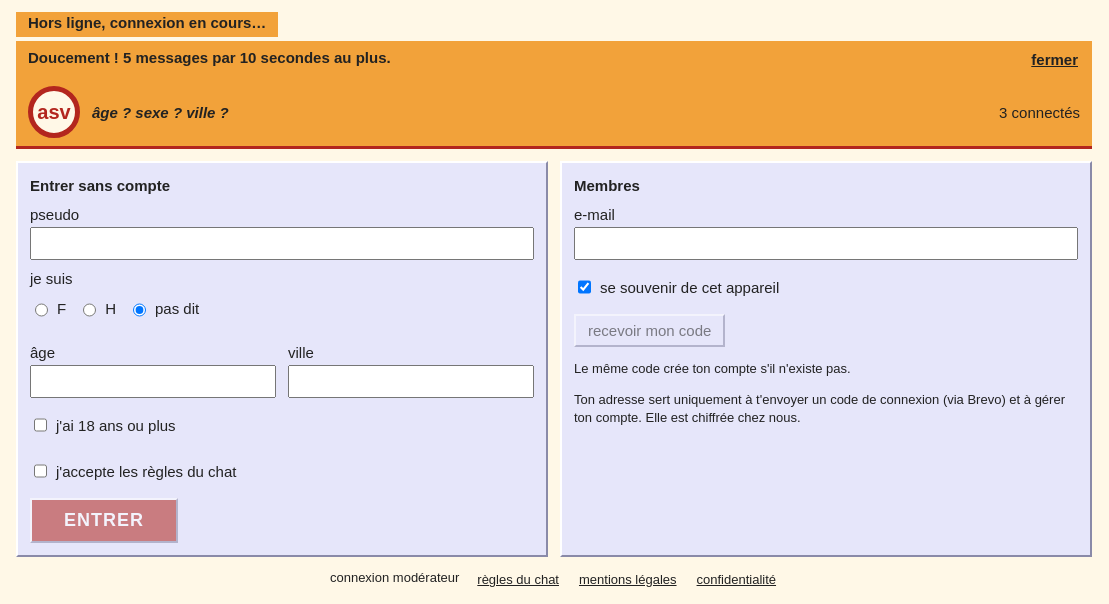
banners › shows a known notice, then dismisses it
Expected: the message shows "Doucement ! 5 messages par 10 secondes au plus.", [28, 49, 391, 66]
Click the button "fermer" at (1055,60), box [1029, 47, 1080, 72]
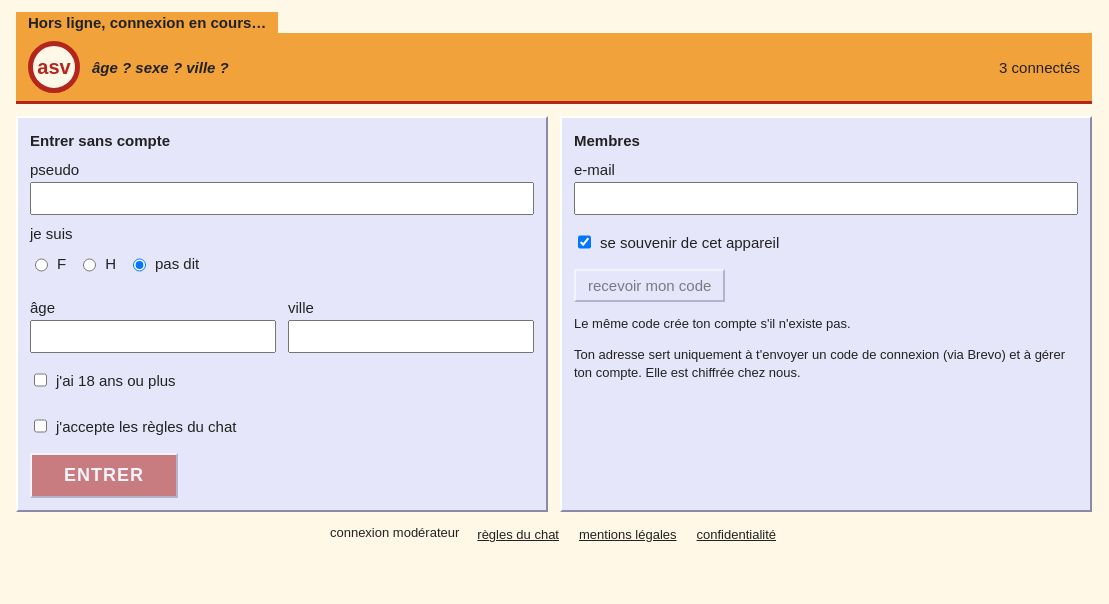
Expected: the message "Doucement ! 5 messages par 10 secondes au plus. fermer" is gone
